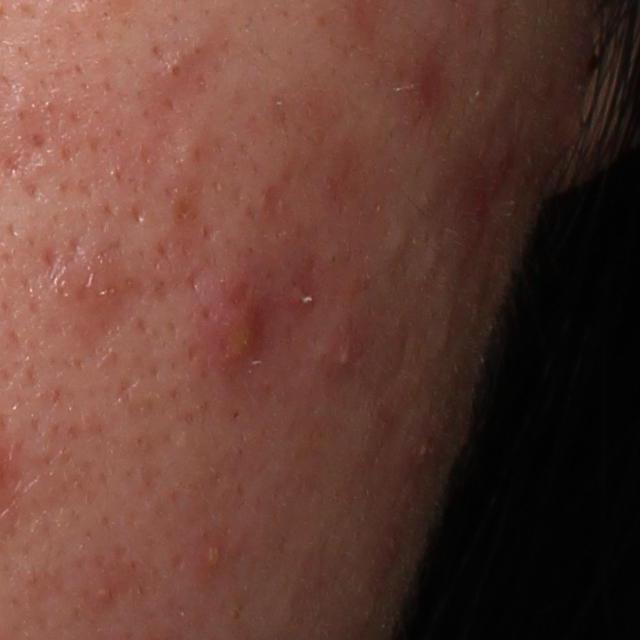comedo: (163, 55, 186, 84)
